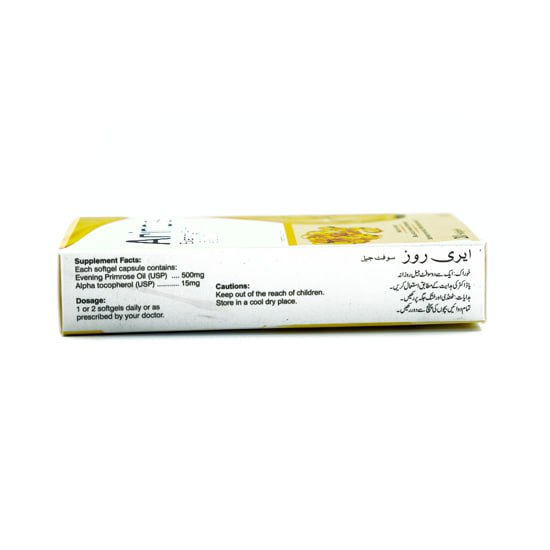Medicine: (53, 207, 494, 344)
